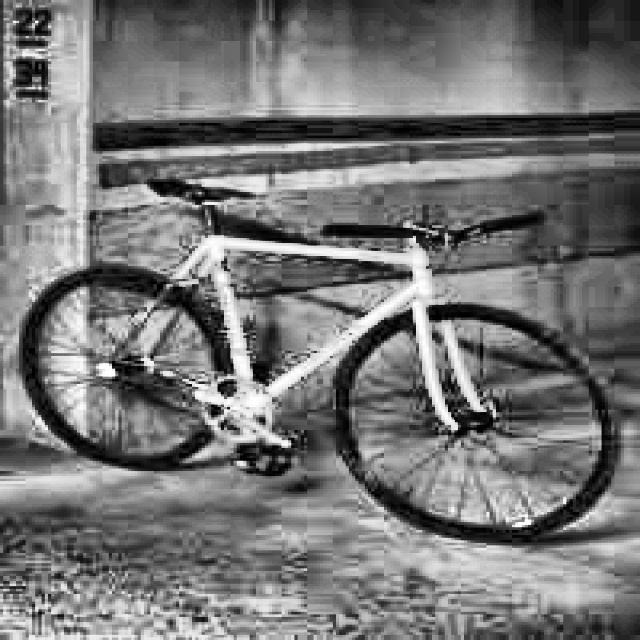motorcycle: (14, 169, 616, 535)
